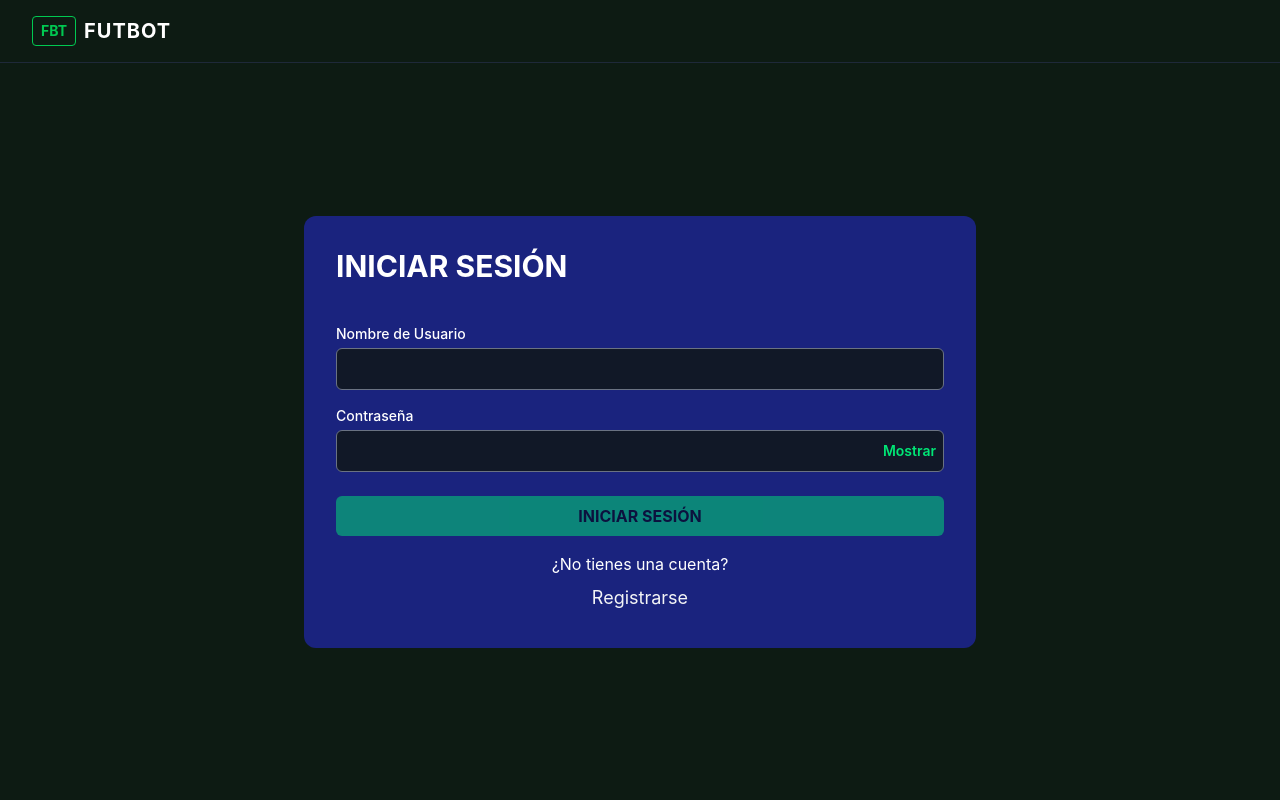
Test: Login › envía las credenciales y almacena el token cuando la autenticación es exitosa
This screenshot has width=1280, height=800.
Step 1. Type "usuario123" into the field labelled "Nombre de Usuario" → {"x": 640, "y": 368}, box [336, 348, 944, 390]
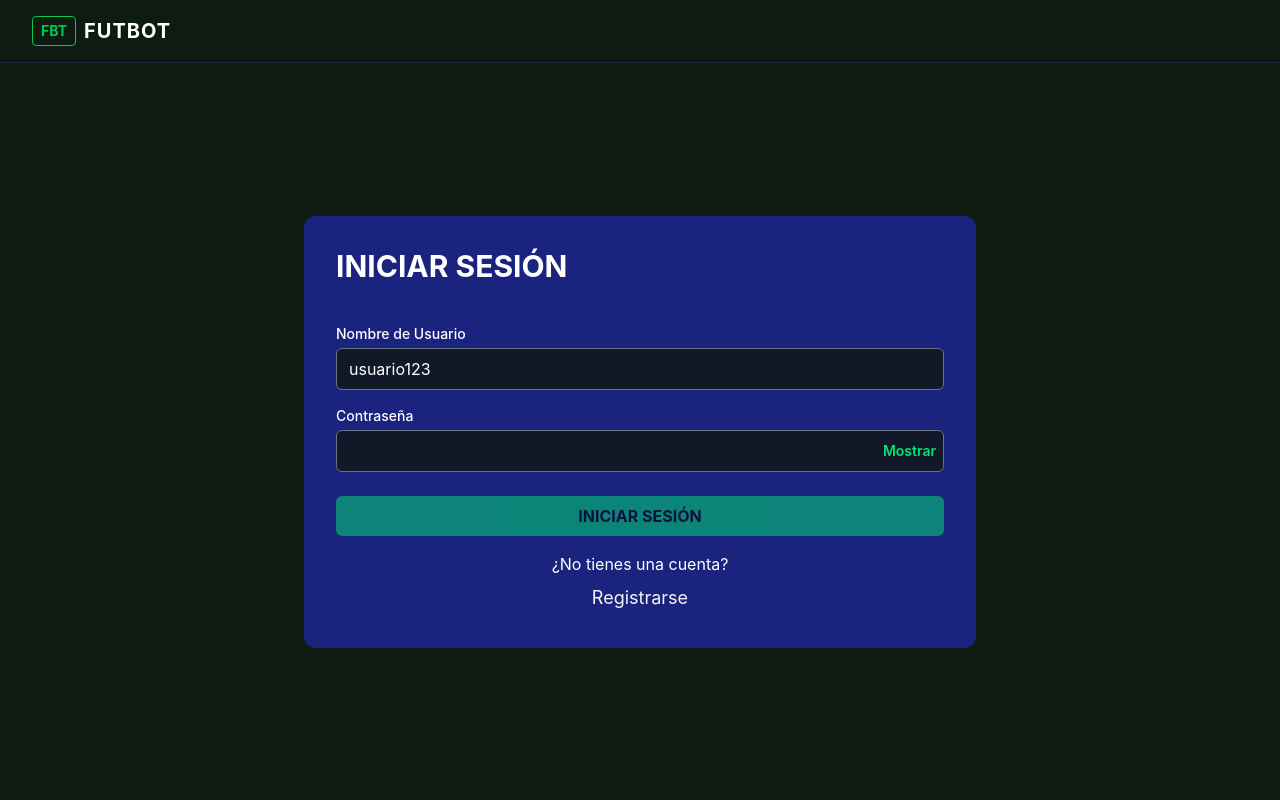
Step 2. Type "password123" into the password field labelled "Contraseña" → {"x": 640, "y": 450}, box [336, 430, 944, 472]
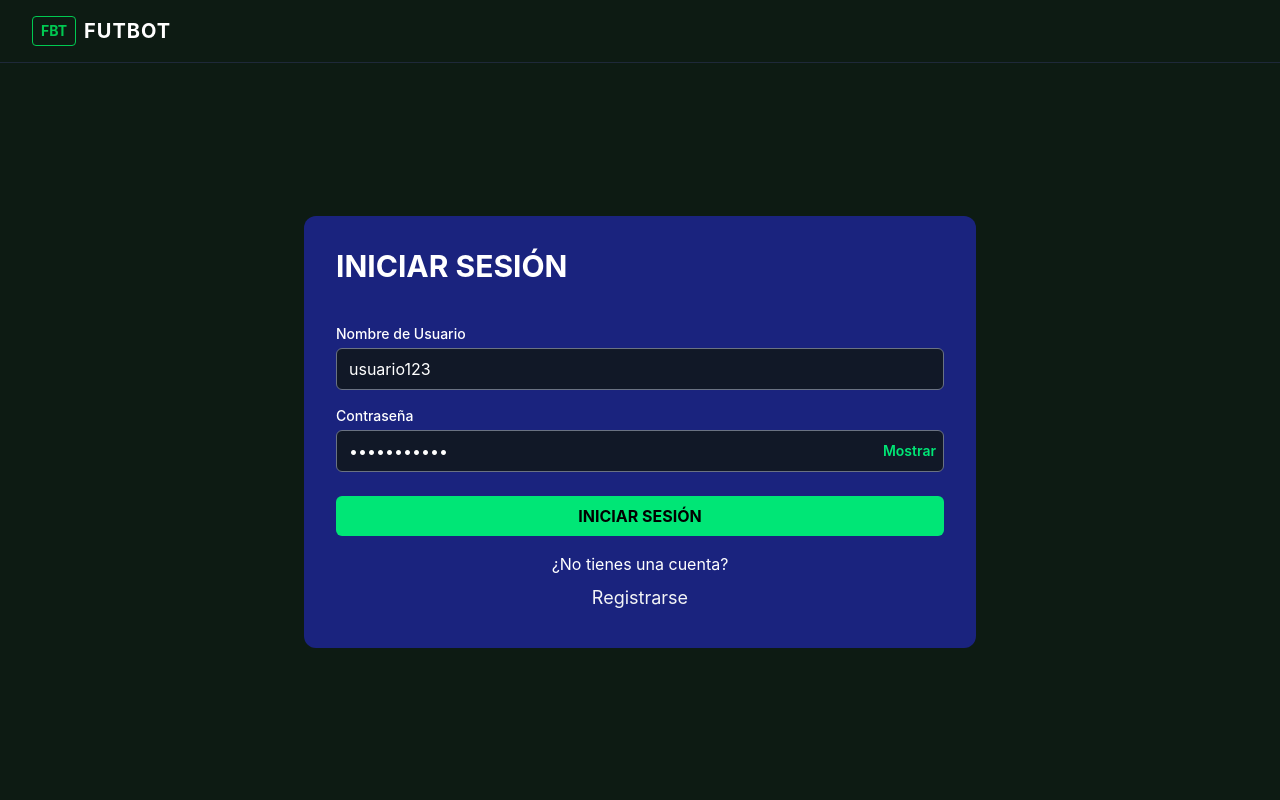
Step 3. Click the button "INICIAR SESIÓN" → {"x": 640, "y": 516}, box [336, 496, 944, 536]
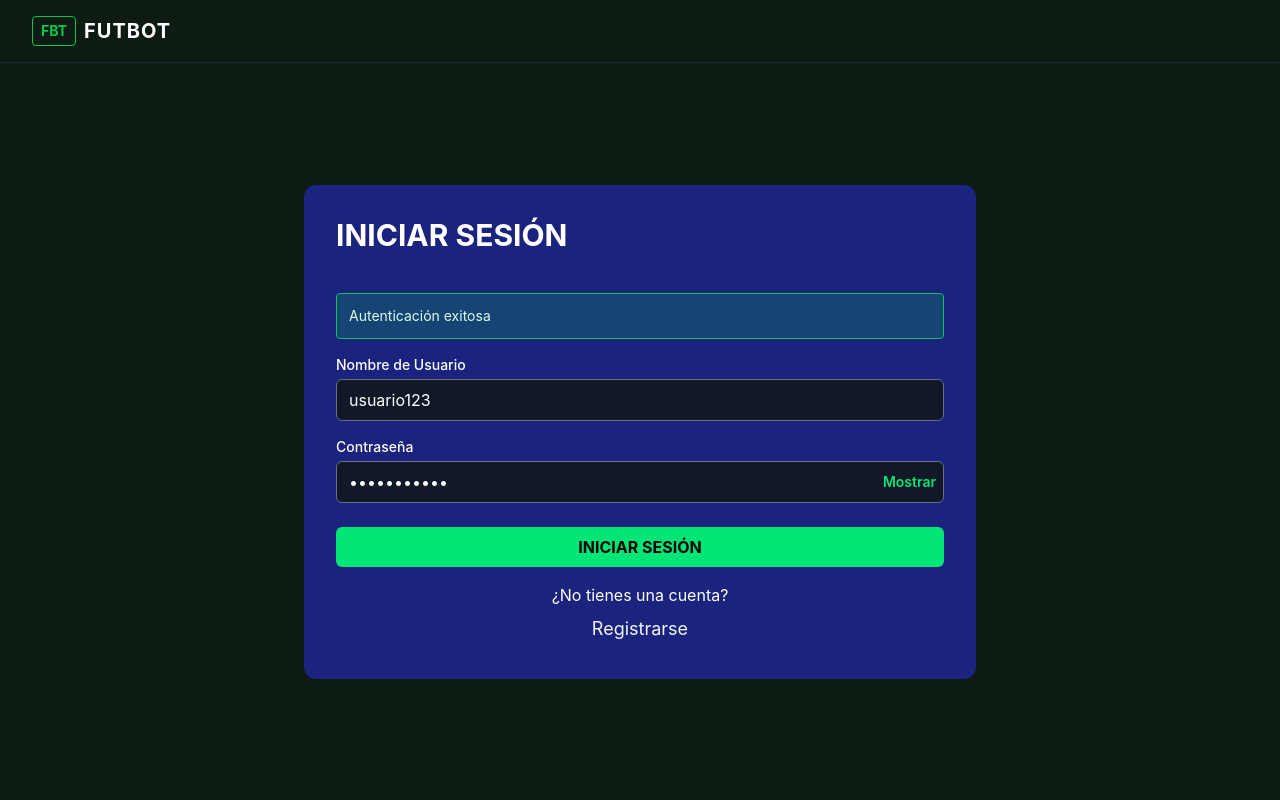
Now the text "Autenticación exitosa" is shown, box [336, 292, 944, 338]
